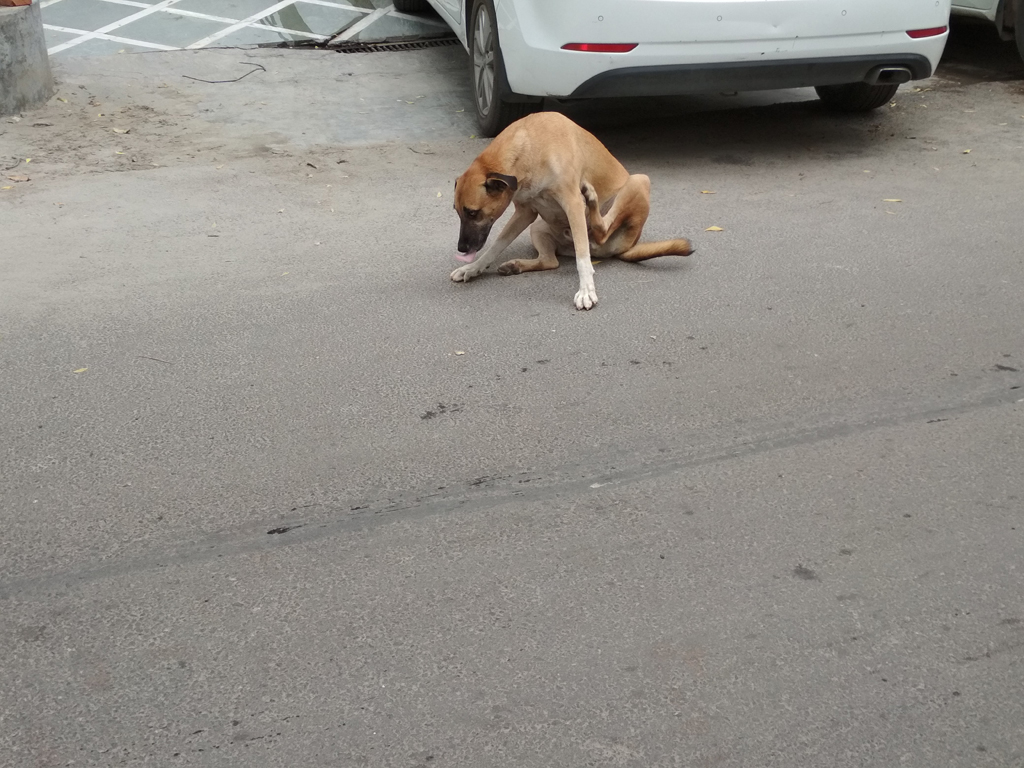dog: (452, 113, 697, 311)
